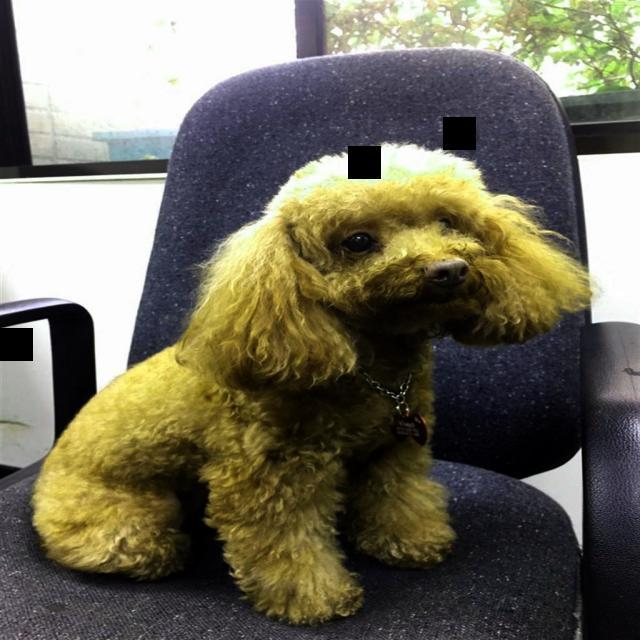adult_dog: (28, 142, 599, 628)
